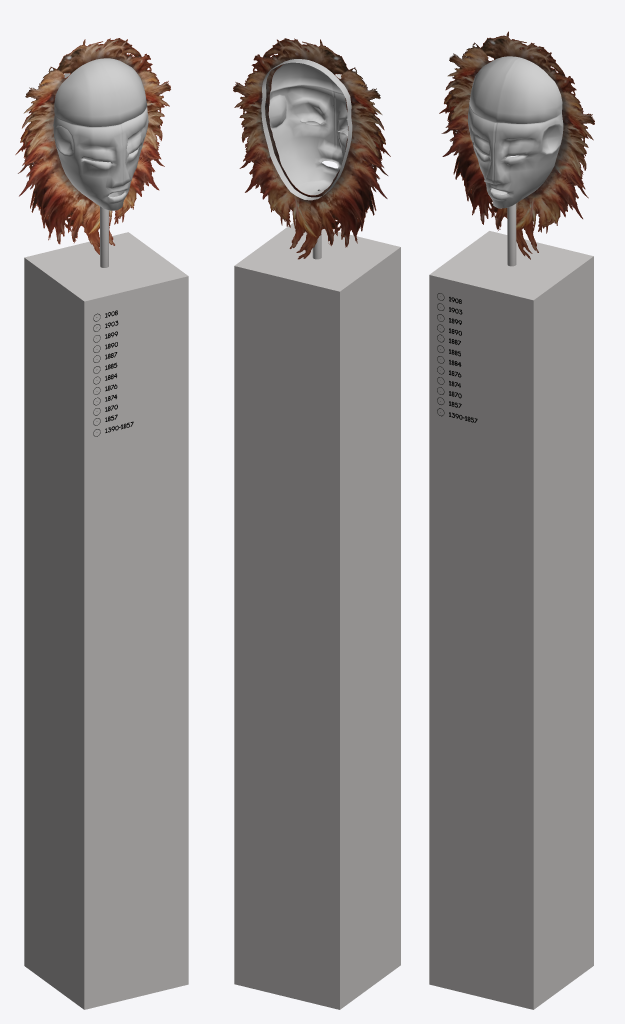
File: mask.dae
The picture shows the model from 3 angles, left to right: view 1: azimuth 30°, elevation 25°; view 2: azimuth 150°, elevation 25°; view 3: azimuth 330°, elevation 25°; orthographic projection.
Parts seen in each view (by area): view 1: Cube, mask, feather, Cylinder; view 2: Cube, feather, mask; view 3: Cube, mask, feather, Cylinder.
Part boxes in pixels (box(x1,y1,x2,y2)): Cube: box(24, 232, 188, 1009); mask: box(53, 58, 148, 210); feather: box(15, 38, 170, 254); Cylinder: box(100, 206, 108, 267); Cube: box(234, 221, 400, 1009); feather: box(233, 38, 390, 259); mask: box(261, 59, 352, 200); Cube: box(429, 231, 593, 1009); mask: box(468, 56, 563, 208); feather: box(439, 31, 594, 259); Cylinder: box(507, 203, 516, 266).
Bounding box in the file's own units: 3.66 × 2.23 × 18.88.
